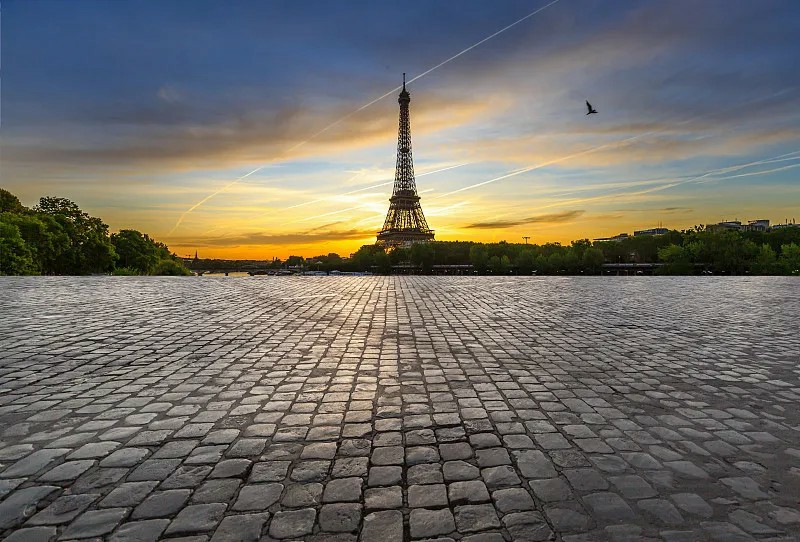Eiffel: (375, 73, 435, 247)
